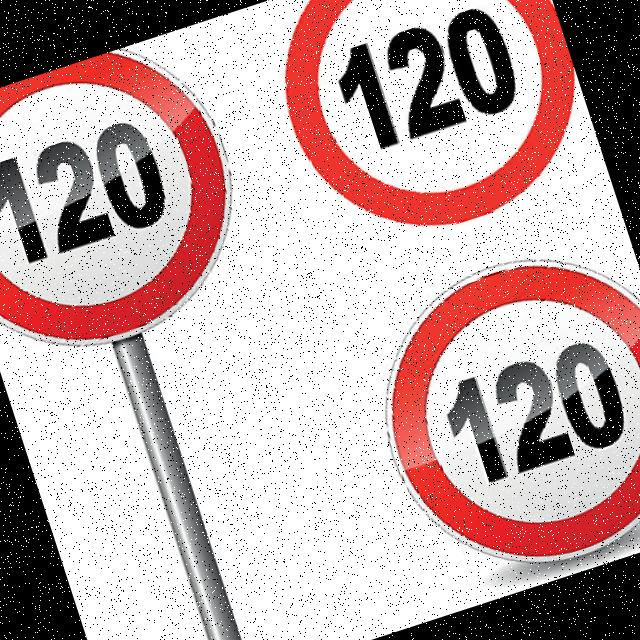speed_limit_120: (339, 217, 640, 608), (0, 26, 275, 384), (246, 0, 609, 265)
